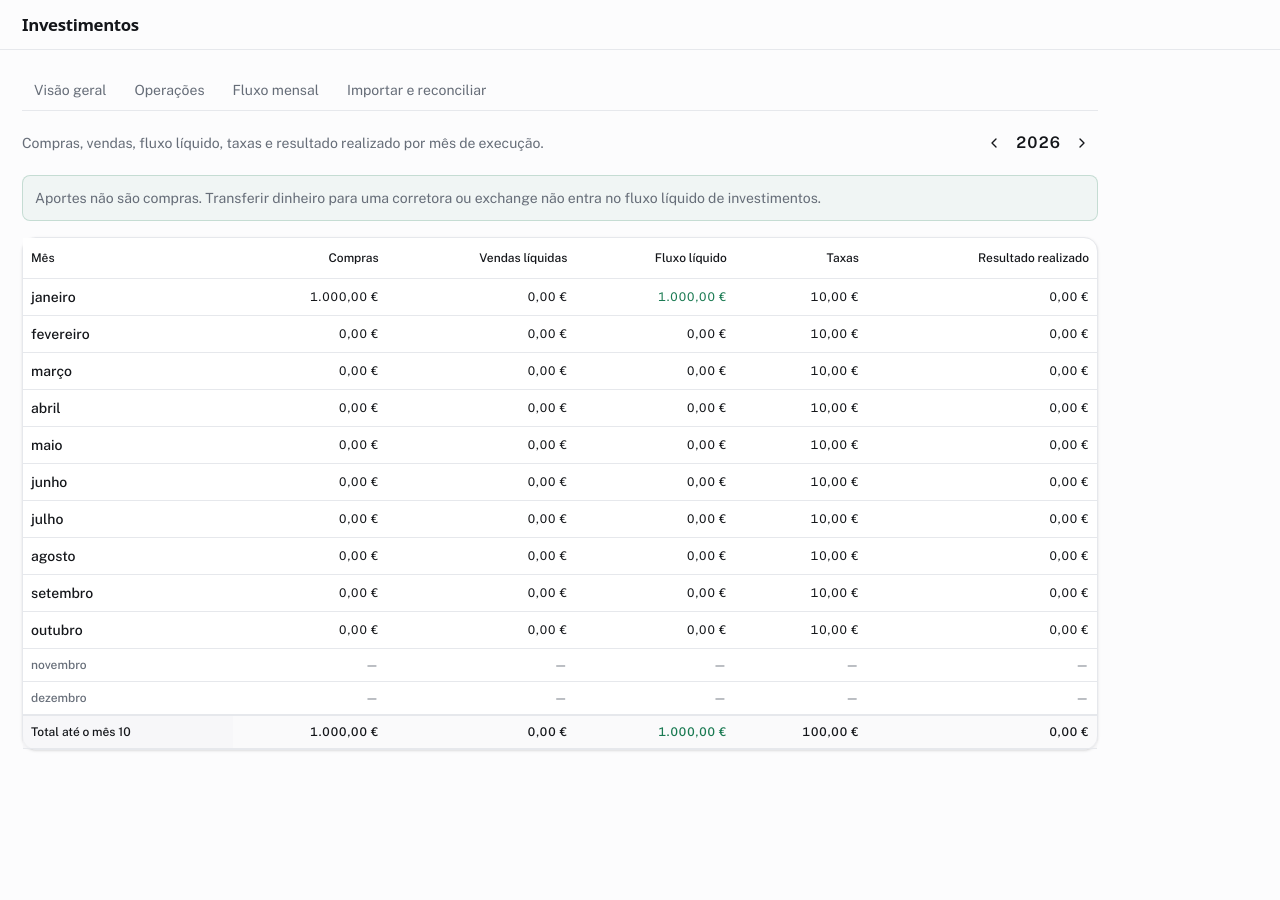
InvestmentFlowPage › shows the selected month operations below the annual table
The width and height of the screenshot is (1280, 900).
Click the button "janeiro" at (53, 297), box 31,287 -> 76,307
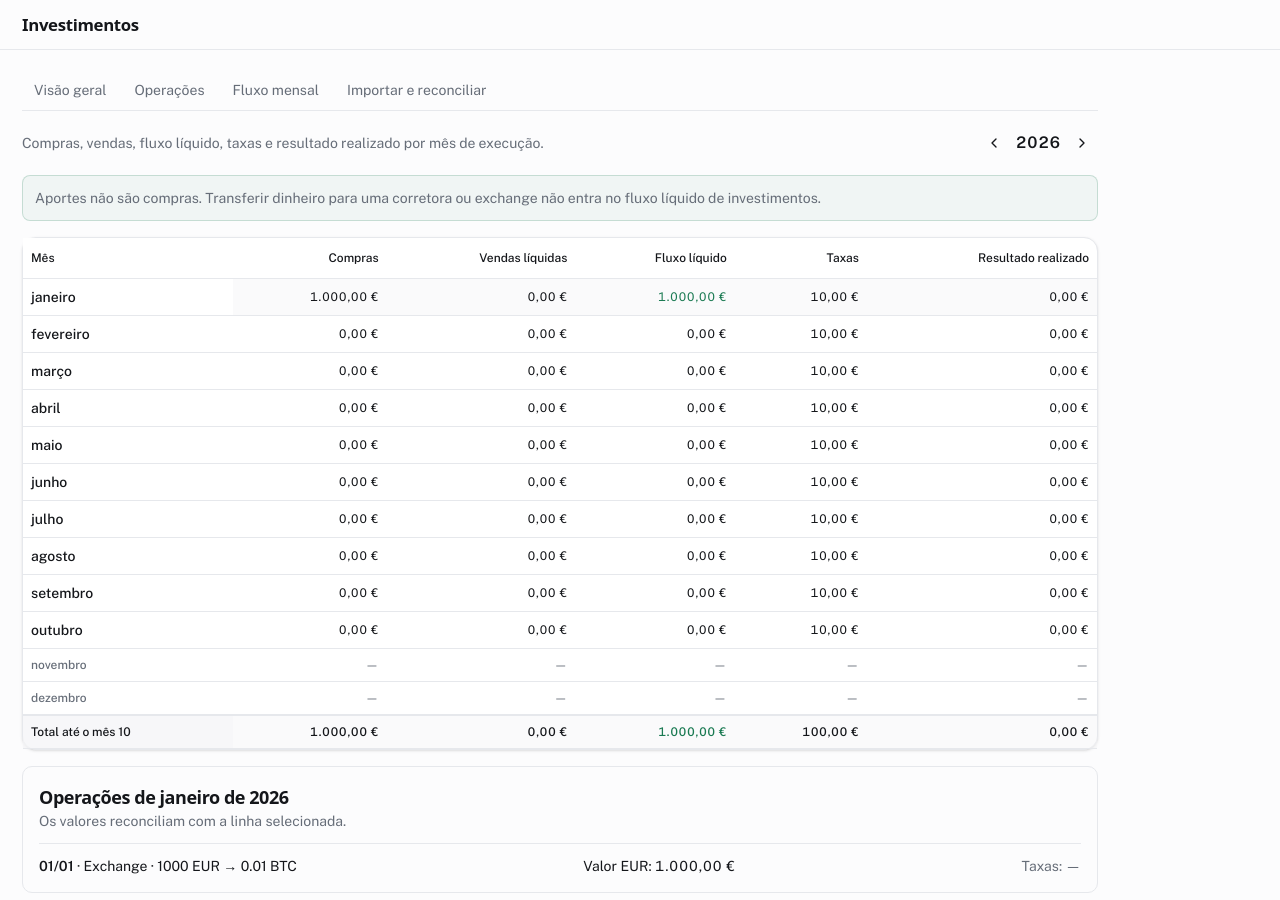
Check: the heading "Operações de janeiro de 2026" is shown, box 39,785 -> 289,809
Check: the text "01/01 · Exchange · 1000 EUR → 0.01 BTC" is shown, box 39,856 -> 297,876
